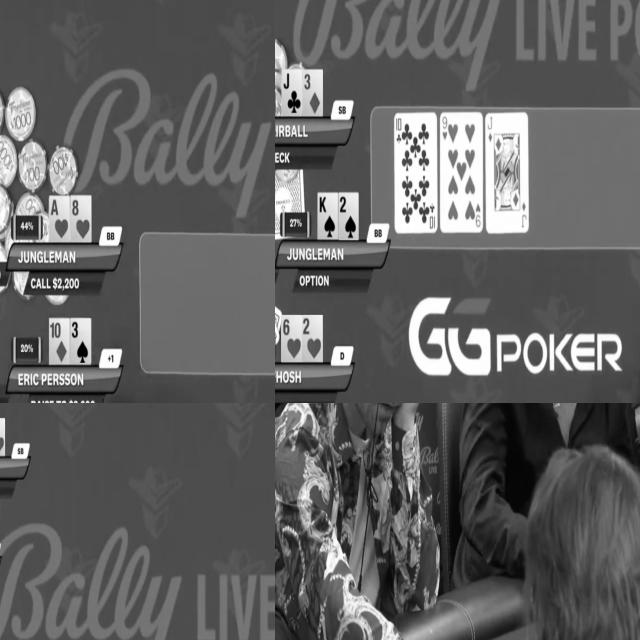10D: (49, 318, 70, 364)
2H: (302, 315, 323, 362)
2S: (338, 195, 358, 241)
3D: (303, 70, 323, 114)
3S: (71, 319, 92, 363)
6H: (281, 315, 303, 362)
8H: (71, 193, 92, 243)
9H: (0, 418, 5, 454)
AH: (49, 198, 70, 241)
JC: (281, 69, 303, 114)
KS: (318, 191, 339, 239)
